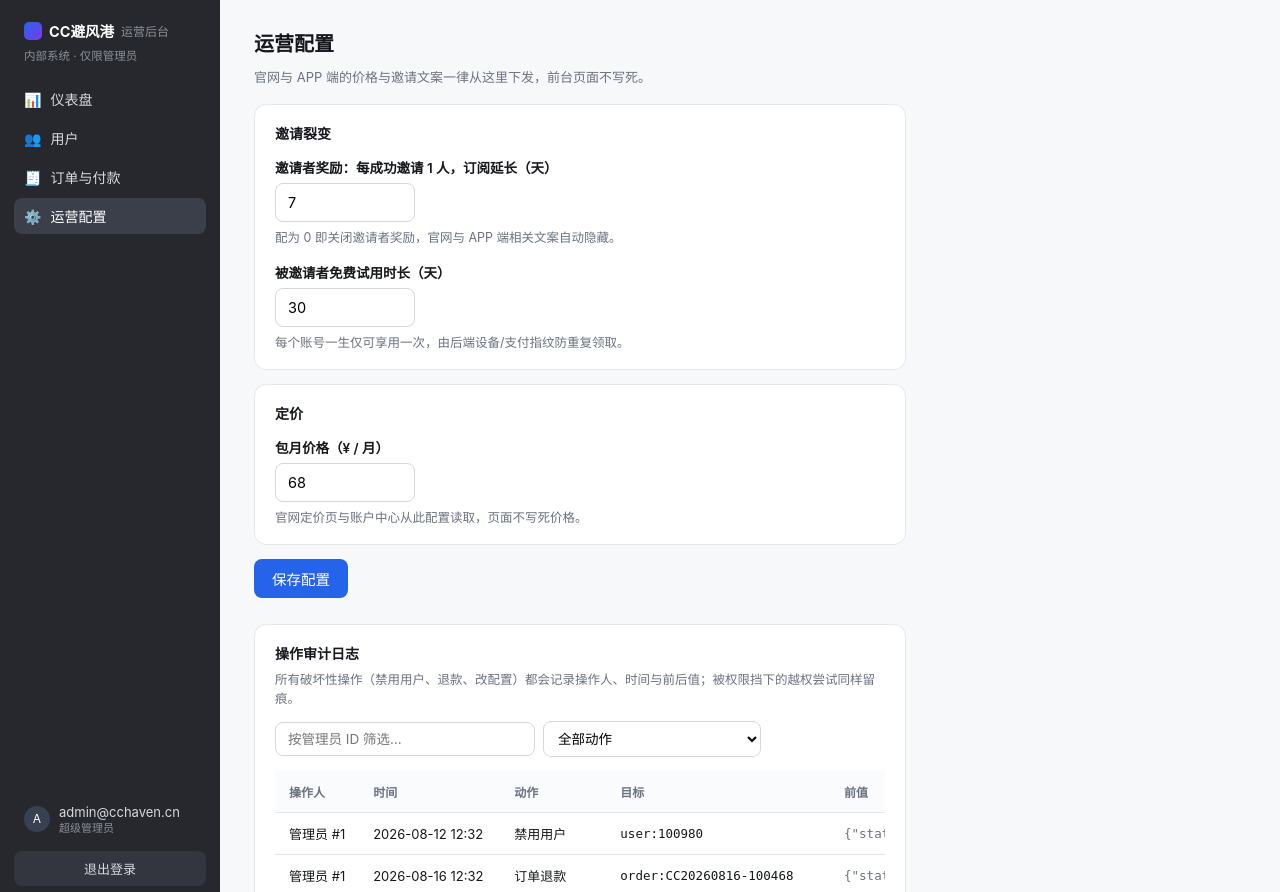
Scenario: 运营配置页 › 价格非法时给字段级错误且不提交
Replace the text in the field labelled "包月价格（¥ / 月）" with "0" at (345, 482), box [275,463,415,502]
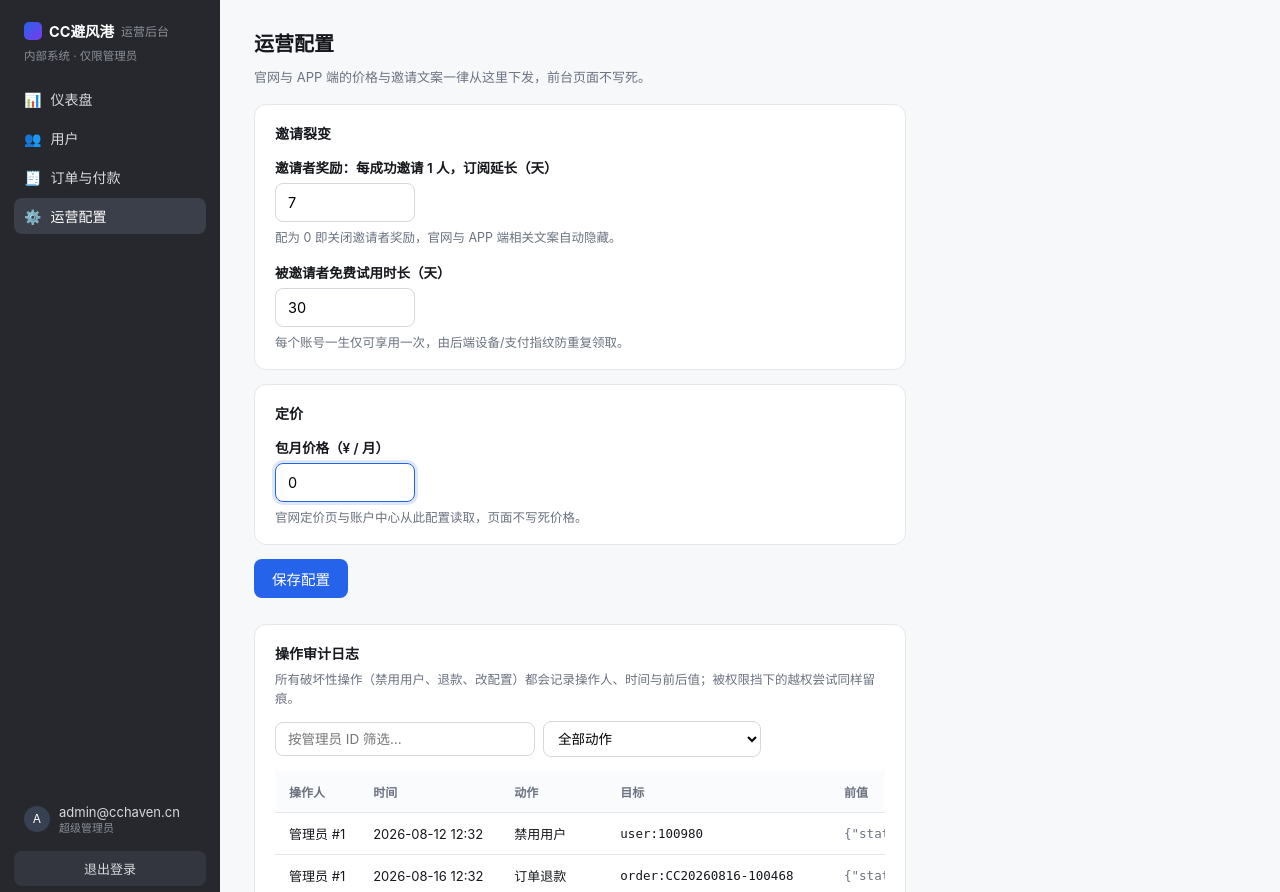
Click the button "保存配置".
click(301, 578)  # box [254,559,348,598]
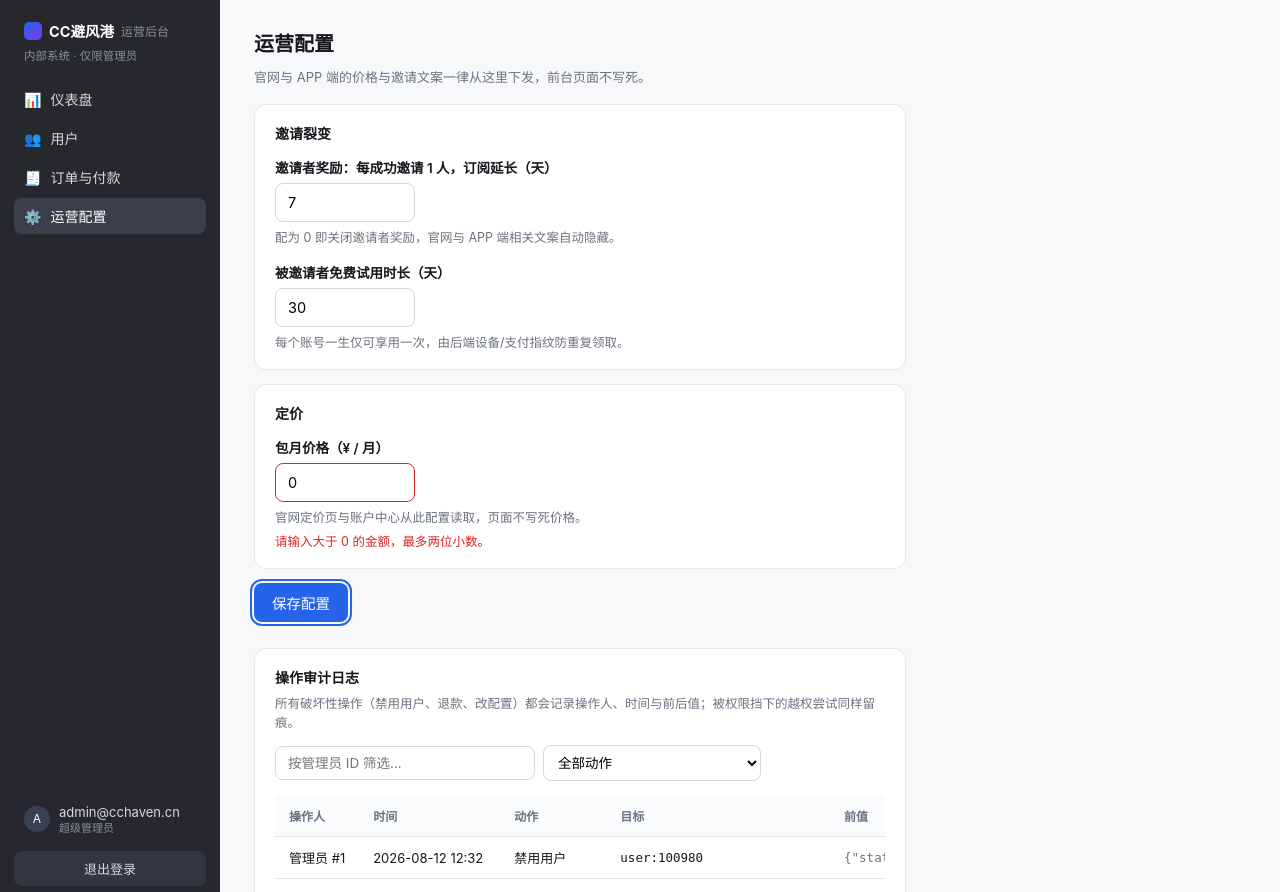
Expected: the text "请输入大于 0 的金额，最多两位小数。" is shown, [275,534,490,549]
